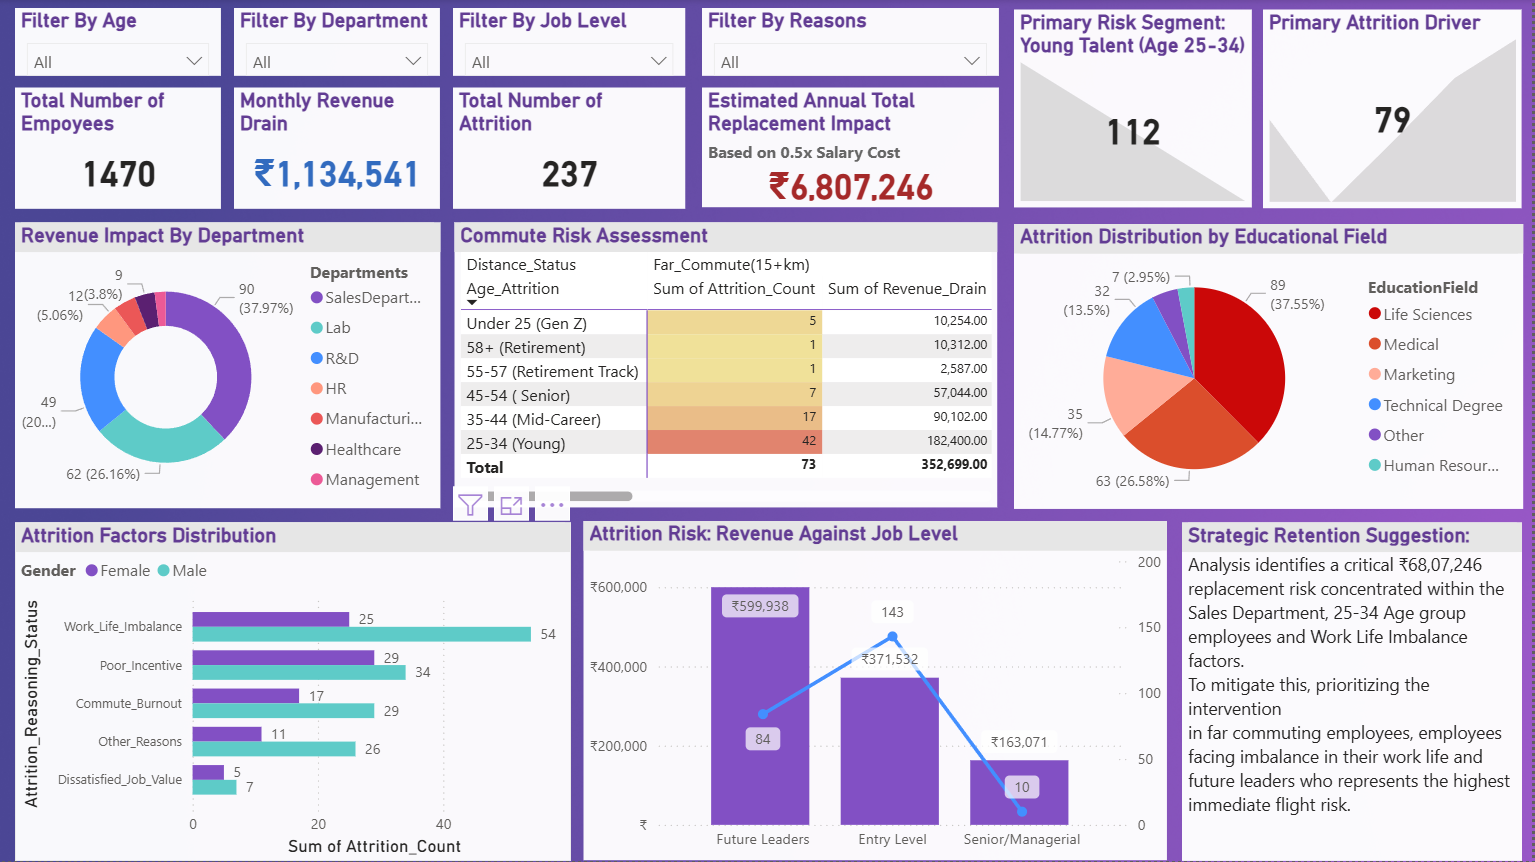

The page's visual inventory and layout, read from the dashboard file:
{"tool":"powerbi","page":{"name":"Page 1","canvas":[1280,720],"ordinal":0},"visuals":[{"type":"card","title":"Monthly Revenue Drain ","fields":{"Values":["Sum(Dept_Analysis.Monthly_Revenue_Drain)"]},"box":[195.8,74.2,172.1,101.1],"z":0},{"type":"lineClusteredColumnComboChart","title":"Attrition Risk: Revenue Against Job Level","fields":{"Category":["Talent_Pipeline.Position_Segment"],"Y":["Sum(Talent_Pipeline.Monthly_Revenue_Drain)"],"Y2":["Sum(Talent_Pipeline.Attrition_Count)"]},"box":[487.6,436.5,487.6,283.5],"z":1000},{"type":"donutChart","title":"Revenue Impact  By Department","fields":{"Category":["Dept_Analysis.Functional_Areas"],"Y":["Sum(Dept_Analysis.Attrition_Count)"]},"box":[12.6,186.3,355.3,238.4],"z":2000},{"type":"card","title":"Estimated Annual Total Replacement Impact","fields":{"Values":["Sum(Query1.Replacement_Cost)"]},"box":[586,74.2,248.3,99.9],"z":3000},{"type":"pivotTable","title":"Commute Risk Assessment","fields":{"Rows":["Age_Distance_Segment.Age_Attrition"],"Columns":["Age_Distance_Segment.Distance_Status"],"Values":["Sum(Age_Distance_Segment.Attrition_Count)","Sum(Age_Distance_Segment.Revenue_Drain)"]},"box":[379.8,187.1,453.5,238.1],"z":4000},{"type":"slicer","title":"Filter By Age","fields":{"Values":["Age_Distance_Segment.Age_Attrition","Age_Distance_Segment.Attrition_Count","Age_Distance_Segment.Attrition_Status","Age_Distance_Segment.Distance_Status","Age_Distance_Segment.Revenue_Drain"]},"box":[12.6,7.9,172.1,56.8],"z":5000},{"type":"textbox","title":"Strategic Retention Suggestion:","box":[986.9,437.4,284.2,282.6],"z":6000},{"type":"card","title":"Total Number of Empoyees","fields":{"Values":["Sum(Total Number of Employees.COUNT(DISTINCT EmployeeNumber))"]},"box":[12.6,74.2,172.1,101.1],"z":7000},{"type":"clusteredBarChart","title":"Attrition Factors Distribution","fields":{"Category":["Gender_Attrition_Reasoning.Attrition_Reasoning_Status"],"Series":["Gender_Attrition_Reasoning.Gender"],"Y":["Sum(Gender_Attrition_Reasoning.Attrition_Count)"]},"box":[12.6,437.4,464.2,282.6],"z":8000},{"type":"card","title":"Total Number of Attrition","fields":{"Values":["Sum(Gender_Attrition_Reasoning.Attrition_Count)"]},"box":[379,74.2,194.2,101.1],"z":9000},{"type":"slicer","title":"Filter By Reasons","fields":{"Values":["Gender_Attrition_Reasoning.Attrition_Reasoning_Status","Gender_Attrition_Reasoning.Gender","Gender_Attrition_Reasoning.Attrition_Count"]},"box":[585.8,7.9,247.9,56.8],"z":10000},{"type":"slicer","title":"Filter By Department","fields":{"Values":["Dept_Analysis.Functional_Areas"]},"box":[195.8,7.9,172.1,56.8],"z":11000},{"type":"slicer","title":"Filter By Job Level","fields":{"Values":["Talent_Pipeline.Position_Segment","Talent_Pipeline.Attrition_Count","Talent_Pipeline.Monthly_Revenue_Drain"]},"box":[379,7.9,194.2,56.8],"z":12000},{"type":"kpi","title":"Primary Attrition Driver","fields":{"TrendLine":["Gender_Attrition_Reasoning.Attrition_Reasoning_Status"],"Indicator":["Sum(Gender_Attrition_Reasoning.Attrition_Count)"]},"box":[1054.8,9.1,216.3,165.8],"z":13000},{"type":"kpi","title":"Primary Risk Segment: Young Talent (Age 25-34)","fields":{"TrendLine":["Query2.Number_of_Young_Attrition"],"Indicator":["Sum(Query2.Attrition_Count)"]},"box":[846.4,9.1,198.4,165],"z":14000},{"type":"pieChart","title":"Attrition Distribution by Educational Field","fields":{"Category":["Education_Field.EducationField"],"Y":["Sum(Education_Field.Attrition_Count)"]},"box":[846.4,187.8,425.5,237.7],"z":15000}]}

Visuals, with their boxes in screenshot pixels (x1, y1, x2, y2), scaled from the page's 1280x720 canvas onto the 1535x862 screenshot:
"Monthly Revenue Drain " card: locate(235, 89, 441, 210)
"Attrition Risk: Revenue Against Job Level" lineClusteredColumnComboChart: locate(585, 523, 1169, 861)
"Revenue Impact  By Department" donutChart: locate(15, 223, 441, 508)
"Estimated Annual Total Replacement Impact" card: locate(703, 89, 1001, 208)
"Commute Risk Assessment" pivotTable: locate(455, 224, 999, 509)
"Filter By Age" slicer: locate(15, 9, 221, 77)
"Strategic Retention Suggestion:" textbox: locate(1184, 524, 1524, 861)
"Total Number of Empoyees" card: locate(15, 89, 221, 210)
"Attrition Factors Distribution" clusteredBarChart: locate(15, 524, 572, 861)
"Total Number of Attrition" card: locate(455, 89, 687, 210)
"Filter By Reasons" slicer: locate(703, 9, 1000, 77)
"Filter By Department" slicer: locate(235, 9, 441, 77)
"Filter By Job Level" slicer: locate(455, 9, 687, 77)
"Primary Attrition Driver" kpi: locate(1265, 11, 1524, 209)
"Primary Risk Segment: Young Talent (Age 25-34)" kpi: locate(1015, 11, 1253, 208)
"Attrition Distribution by Educational Field" pieChart: locate(1015, 225, 1525, 509)
